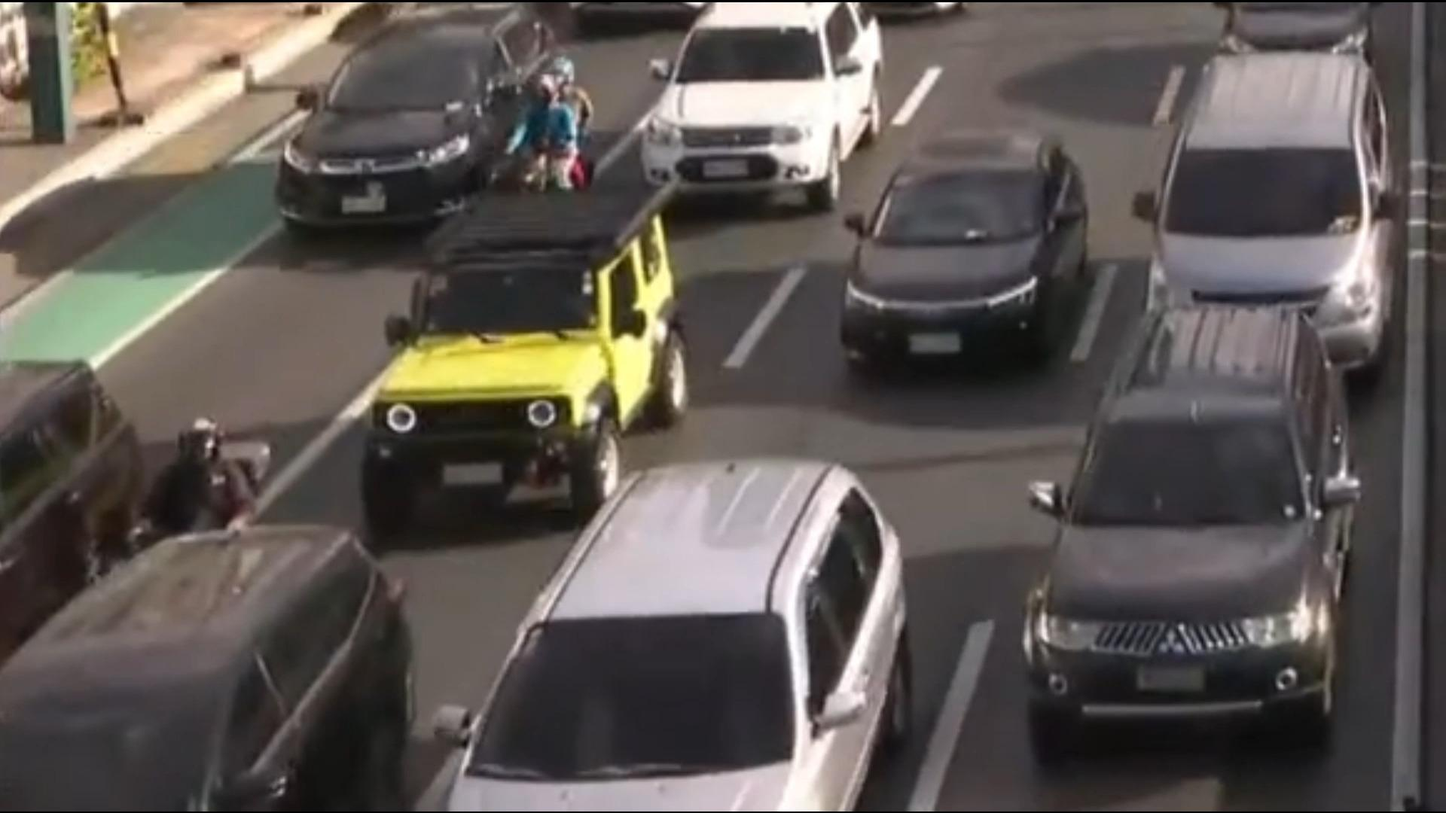Motorcycle: (122, 388, 298, 554), (507, 49, 601, 212)
SUV: (987, 307, 1403, 770), (417, 471, 961, 813), (346, 185, 710, 535), (0, 525, 441, 813), (268, 0, 564, 247), (606, 0, 902, 212), (0, 339, 172, 667)
Sedan: (792, 138, 1119, 396)
Van: (1084, 32, 1424, 375)
